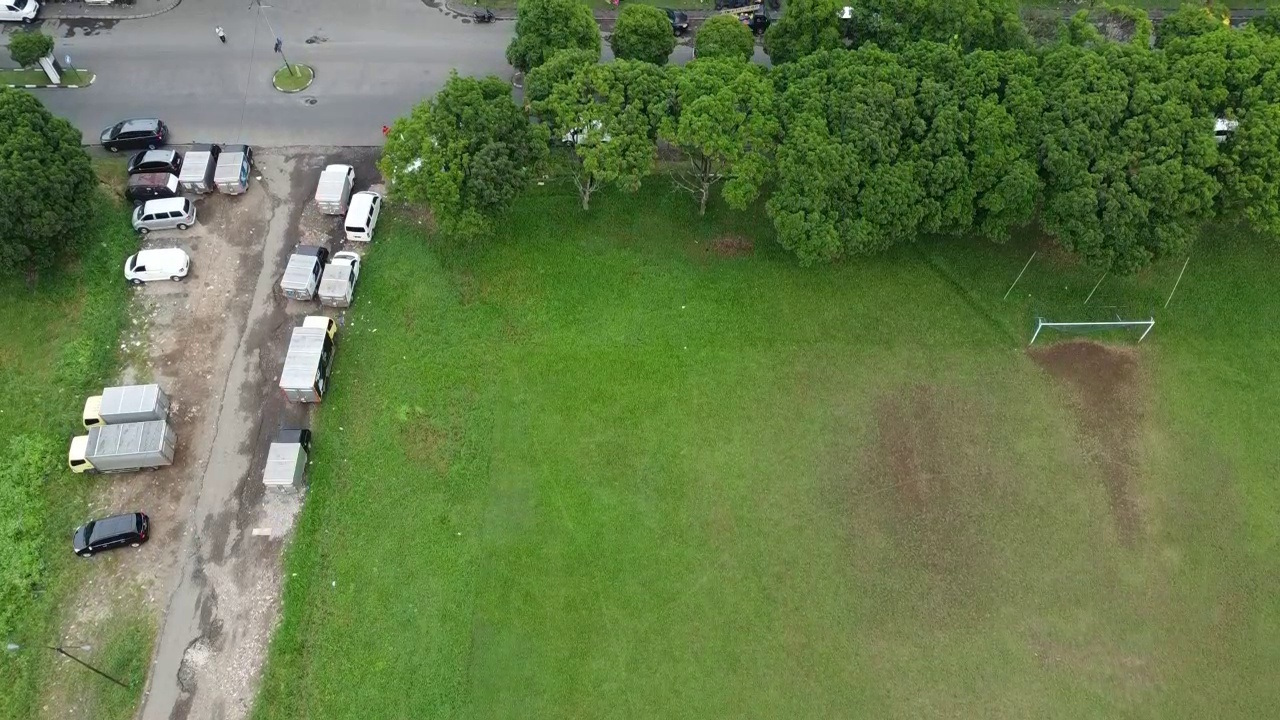mobil: (74, 509, 157, 558), (118, 243, 201, 288), (96, 112, 173, 152), (339, 184, 384, 244), (133, 198, 201, 234), (122, 167, 186, 199), (126, 146, 185, 172)
